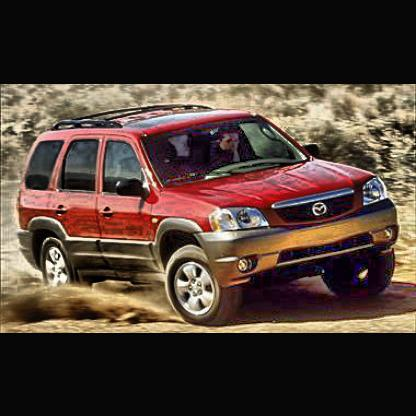Mazda Tribute SUV 2011: (18, 104, 401, 331)
